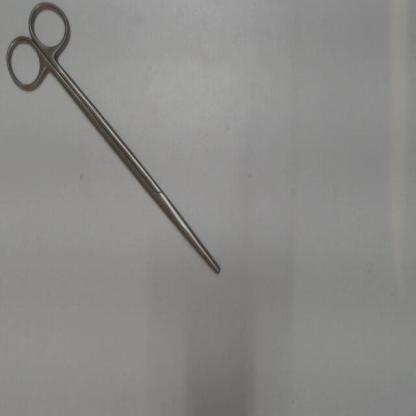9 Metzenbaum Scissors: (3, 1, 226, 282)
